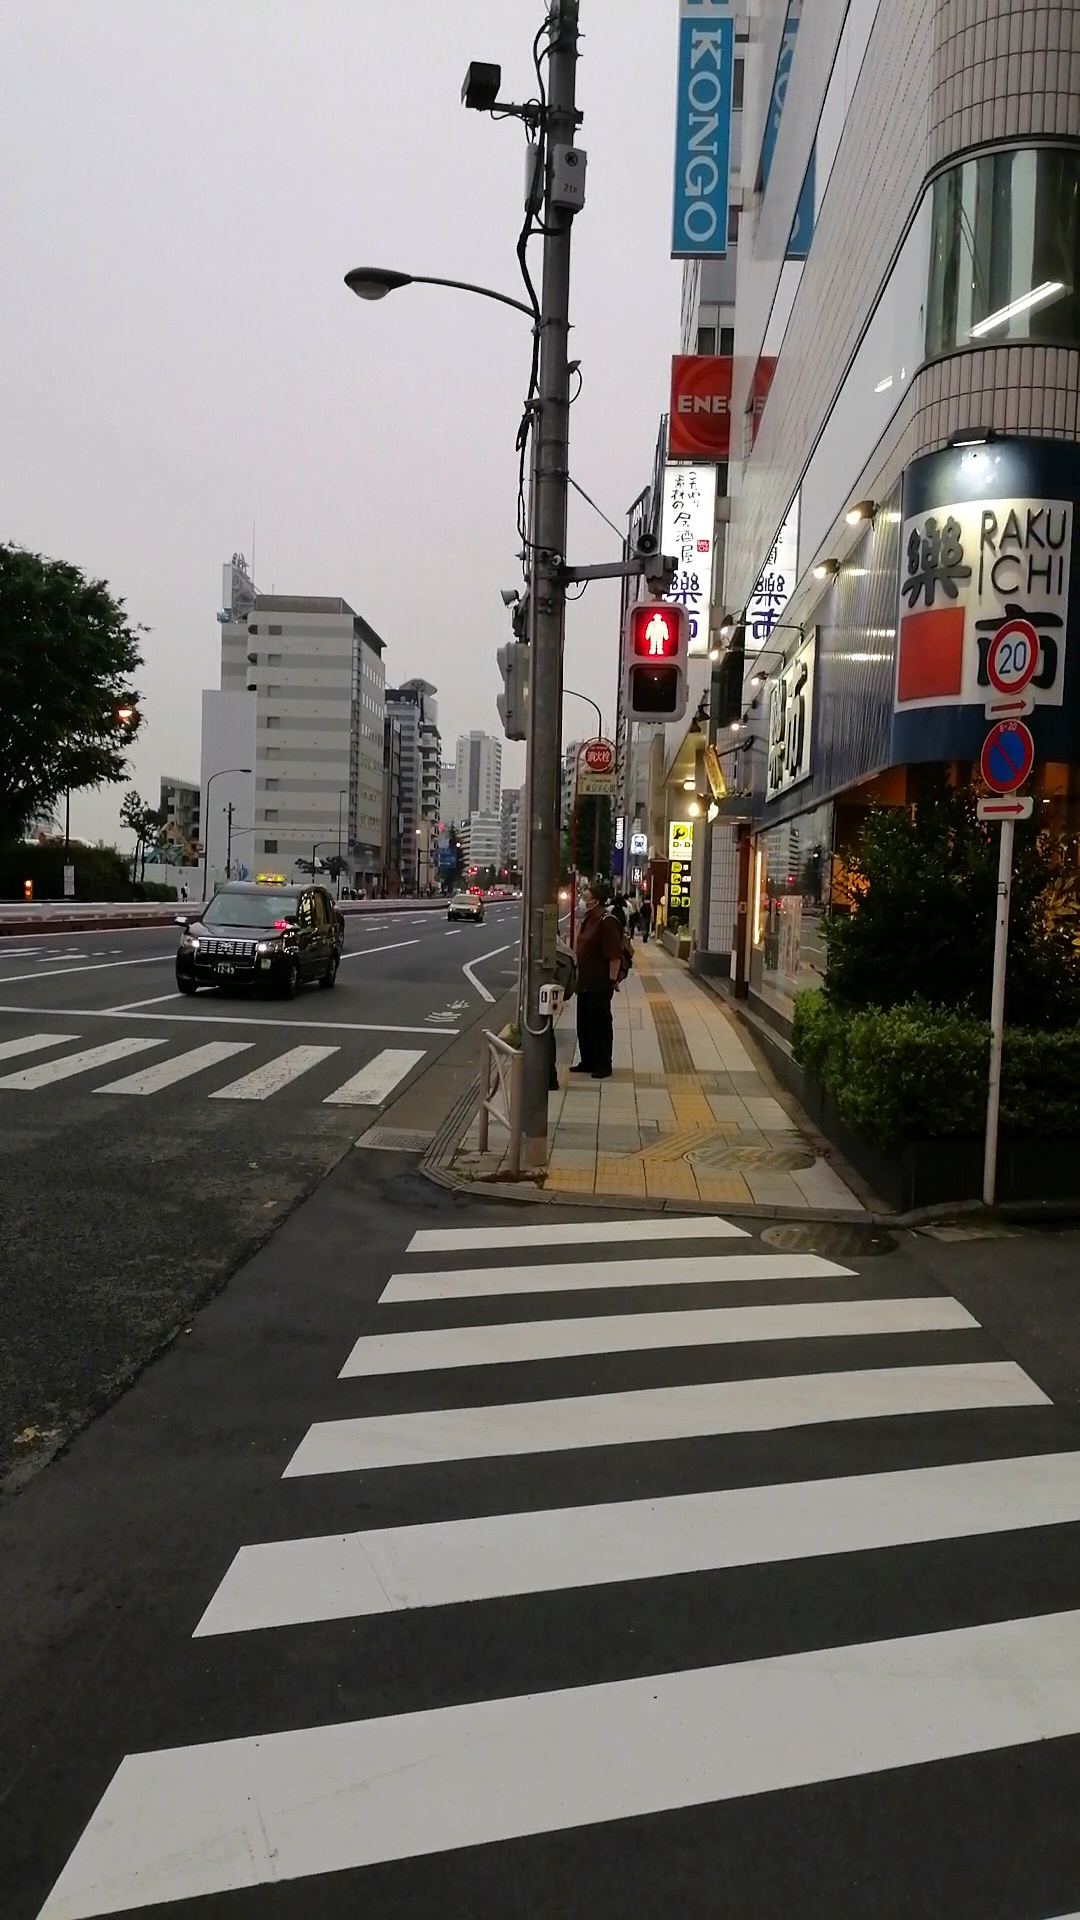red: (621, 601, 688, 720)
